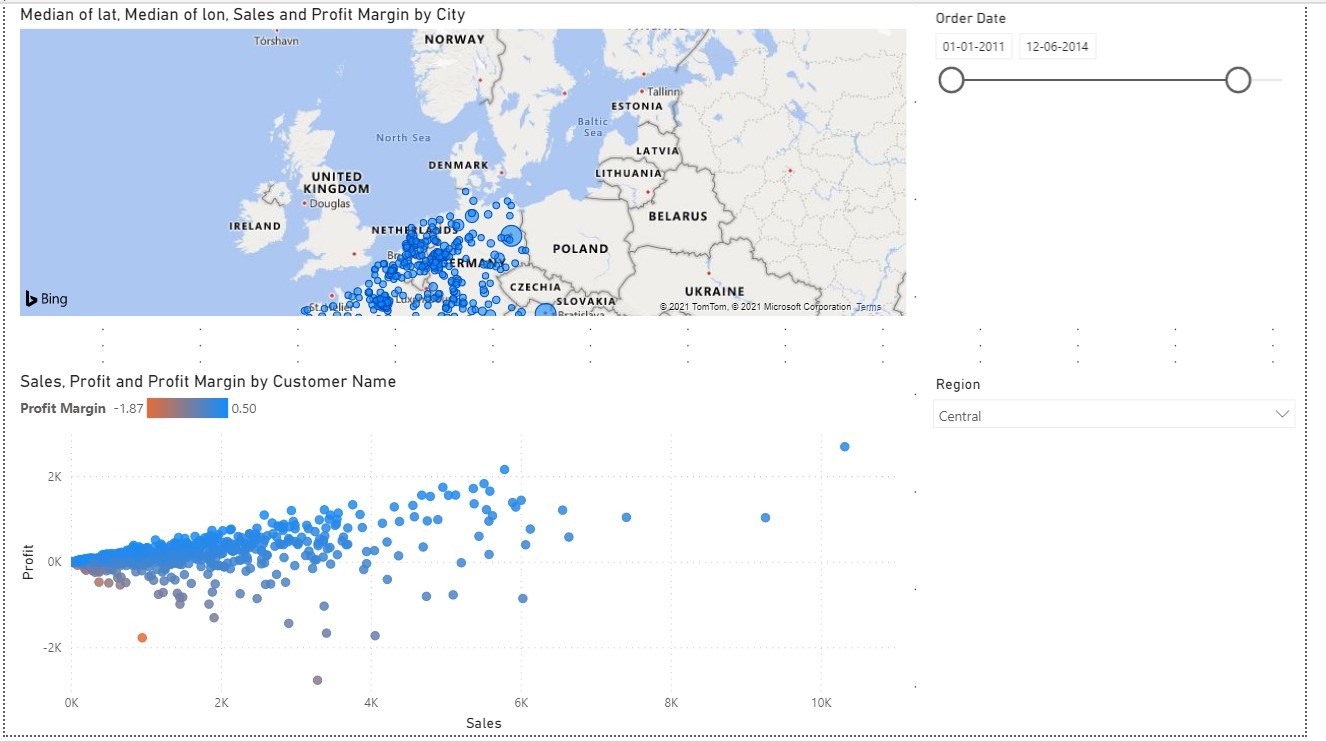

The dashboard page shown, as its layout file describes it:
{"tool":"powerbi","page":{"name":"Page 4","canvas":[1280,720],"ordinal":3},"visuals":[{"type":"scatterChart","fields":{"X":["Sum(OrderBreakdown.Sales)"],"Y":["Sum(OrderBreakdown.Profit)"],"Category":["ListOfOrders.Customer Name"]},"box":[9.6,360.3,882.9,360.3],"z":0},{"type":"map","fields":{"Category":["ListOfOrders.Geography.Country","ListOfOrders.Geography.State","ListOfOrders.Geography.City"],"Y":["Median(ListOfOrders.lat)"],"X":["Median(ListOfOrders.lon)"],"Size":["Sum(OrderBreakdown.Sales)"]},"box":[9.6,0,882.9,312.5],"z":1},{"type":"slicer","fields":{"Values":["ListOfOrders.Order Date"]},"box":[903,0,377,312],"z":2},{"type":"slicer","fields":{"Values":["ListOfOrders.Region"]},"box":[903,360,377,360],"z":3}]}

Visuals, with their boxes in screenshot pixels (x1, y1, x2, y2), scaled from the page's 1280x720 canvas onto the 1326x741 screenshot:
scatterChart - Sum(OrderBreakdown.Sales) x Sum(OrderBreakdown.Profit): bbox(10, 371, 925, 740)
map - ListOfOrders.Geography.Country x ListOfOrders.Geography.State: bbox(10, 0, 925, 322)
slicer - ListOfOrders.Order Date: bbox(935, 0, 1325, 321)
slicer - ListOfOrders.Region: bbox(935, 370, 1325, 740)
